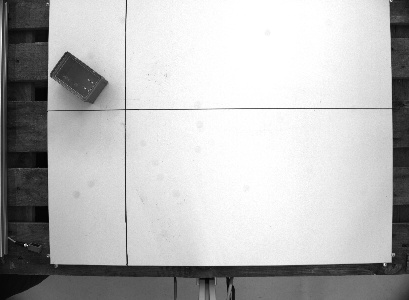kltxs: (47, 49, 111, 105)
